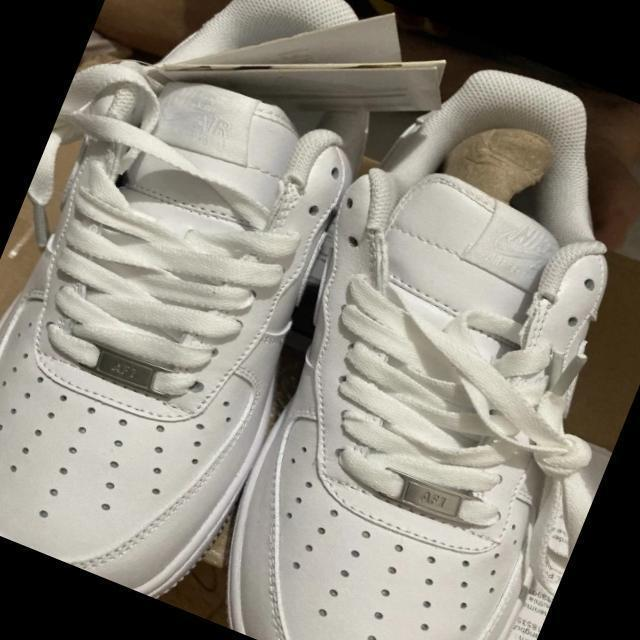nike original air force: (175, 28, 640, 640), (0, 0, 427, 611)
